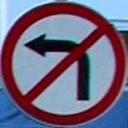NoVirarEsquerda: (3, 1, 126, 128)
